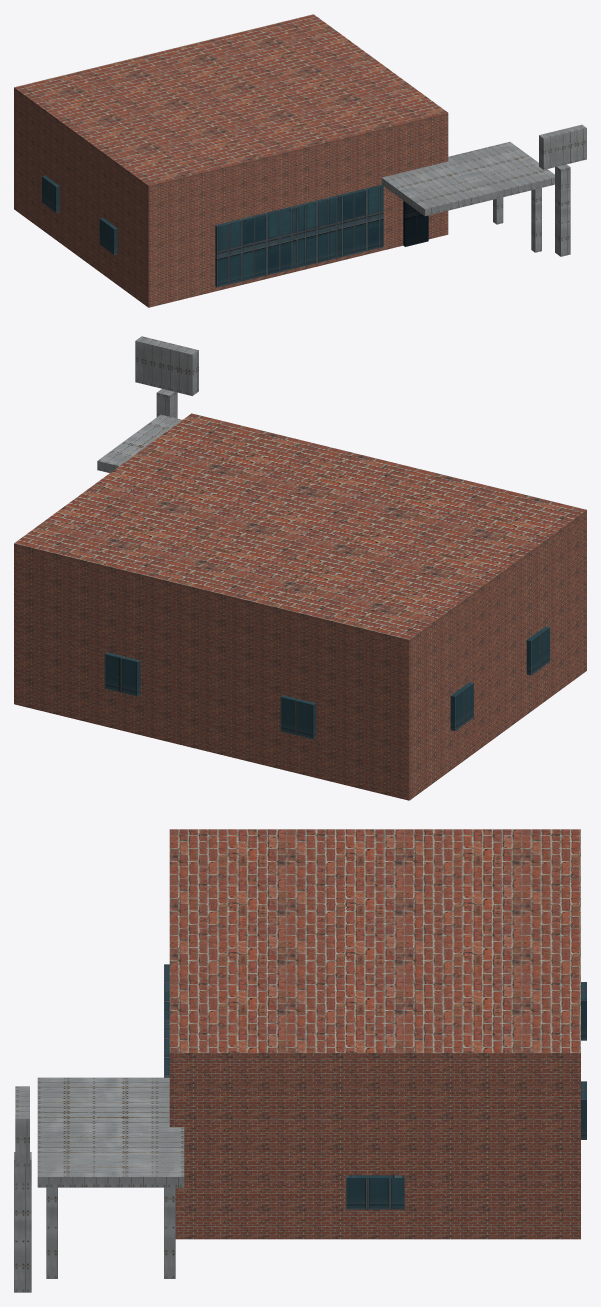
The model's file is neighborhood-pharmacy_lod0.gltf.
The picture shows the model from 3 angles, top to bottom: view 1: azimuth 30°, elevation 25°; view 2: azimuth 150°, elevation 25°; view 3: azimuth 270°, elevation 25°; orthographic projection. The views are drawn at different scales.
Visible parts, largest first — view 1: neighborhood-pharmacy_main, neighborhood-pharmacy_fen_07-glass-curtain-blue_0, neighborhood-pharmacy__drive_canopy, neighborhood-pharmacy__pylon_cabinet, neighborhood-pharmacy__pylon_post, neighborhood-pharmacy_fen_07-glass-curtain-blue_1_t, neighborhood-pharmacy__drive_post_a; view 2: neighborhood-pharmacy_main, neighborhood-pharmacy_fen_07-glass-curtain-blue_0, neighborhood-pharmacy__pylon_cabinet, neighborhood-pharmacy__drive_canopy; view 3: neighborhood-pharmacy_main, neighborhood-pharmacy__drive_canopy, neighborhood-pharmacy_fen_07-glass-curtain-blue_0, neighborhood-pharmacy__pylon_post, neighborhood-pharmacy__pylon_cabinet, neighborhood-pharmacy__drive_post_a, neighborhood-pharmacy__drive_post_b.
Boxes of the visible parts, left/top/right/bottom form: neighborhood-pharmacy_main: left=14, top=14, right=448, bottom=307; neighborhood-pharmacy_fen_07-glass-curtain-blue_0: left=42, top=175, right=383, bottom=287; neighborhood-pharmacy__drive_canopy: left=381, top=142, right=554, bottom=216; neighborhood-pharmacy__pylon_cabinet: left=539, top=124, right=586, bottom=169; neighborhood-pharmacy__pylon_post: left=555, top=164, right=570, bottom=256; neighborhood-pharmacy_fen_07-glass-curtain-blue_1_t: left=403, top=201, right=428, bottom=246; neighborhood-pharmacy__drive_post_a: left=531, top=188, right=541, bottom=252; neighborhood-pharmacy_main: left=14, top=413, right=586, bottom=800; neighborhood-pharmacy_fen_07-glass-curtain-blue_0: left=104, top=626, right=550, bottom=739; neighborhood-pharmacy__pylon_cabinet: left=135, top=336, right=198, bottom=395; neighborhood-pharmacy__drive_canopy: left=97, top=414, right=182, bottom=472; neighborhood-pharmacy_main: left=169, top=829, right=580, bottom=1239; neighborhood-pharmacy__drive_canopy: left=37, top=1077, right=184, bottom=1187; neighborhood-pharmacy_fen_07-glass-curtain-blue_0: left=164, top=964, right=586, bottom=1209; neighborhood-pharmacy__pylon_post: left=14, top=1152, right=31, bottom=1292; neighborhood-pharmacy__pylon_cabinet: left=15, top=1086, right=29, bottom=1166; neighborhood-pharmacy__drive_post_a: left=46, top=1187, right=57, bottom=1278; neighborhood-pharmacy__drive_post_b: left=164, top=1187, right=175, bottom=1278.
Size of the model in its own units: 23.5 by 7 by 19.5.
